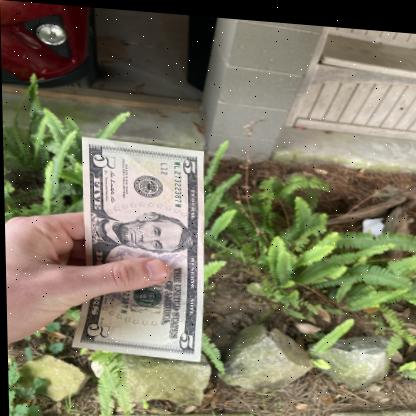five-front: (70, 132, 207, 365)
